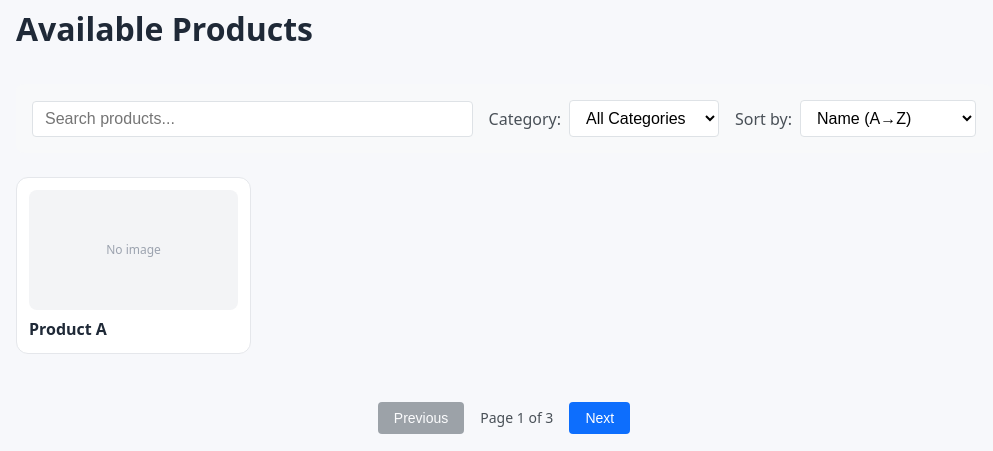
ProductListPage › navigates to next page when Next button is clicked
Expected: the text "Page 1 of 3" is shown, [480,408,553,427]
Step 1. Click the button "Next" → [600, 418], box [569,402,630,434]
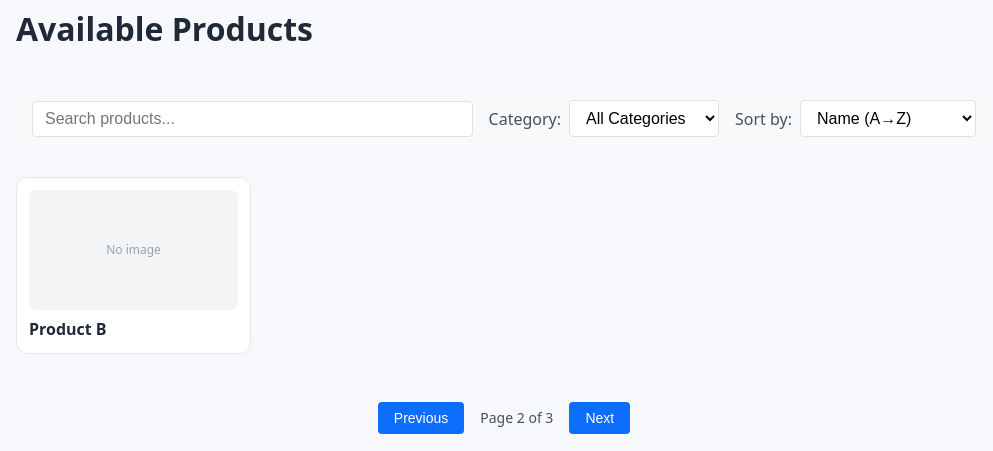
Expected: the text "Page 2 of 3" is shown, [480,408,553,427]
